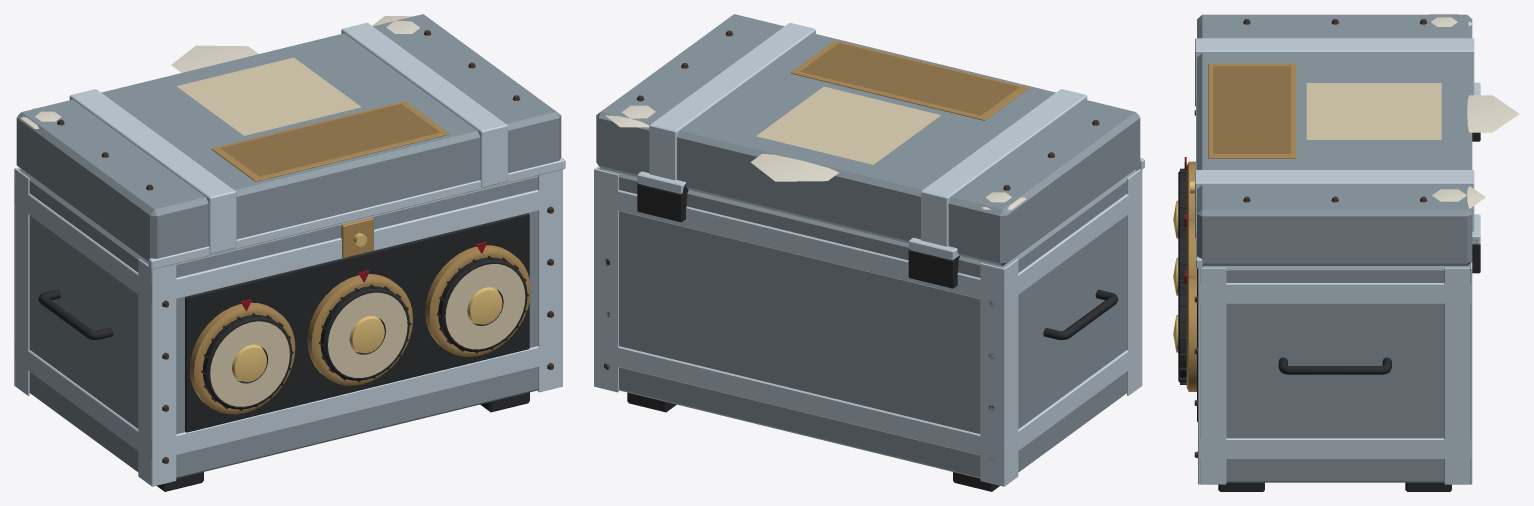
The model's file is cold_chest.glb.
3 renders of one model, left to right at view 1: azimuth 30°, elevation 25°; view 2: azimuth 150°, elevation 25°; view 3: azimuth 270°, elevation 25°, orthographic.
Visible parts, largest first — view 1: chest_body, IA_lid, IA_ring_2, IA_ring_1, IA_ring_0; view 2: chest_body, IA_lid; view 3: IA_lid, chest_body, IA_ring_2, IA_ring_0, IA_ring_1.
Boxes of the visible parts, box(x1,y1,x2,y2) form: chest_body: box(14, 167, 562, 491); IA_lid: box(16, 14, 565, 269); IA_ring_2: box(436, 255, 528, 353); IA_ring_1: box(319, 284, 411, 382); IA_ring_0: box(201, 313, 293, 411); chest_body: box(594, 166, 1142, 491); IA_lid: box(596, 14, 1144, 266); IA_lid: box(1195, 14, 1519, 268); chest_body: box(1173, 110, 1480, 491); IA_ring_2: box(1178, 283, 1186, 384); IA_ring_0: box(1178, 168, 1186, 229); IA_ring_1: box(1178, 225, 1186, 286).
Bounding box in the file's own units: 0.9979 × 0.6267 × 0.6672.
